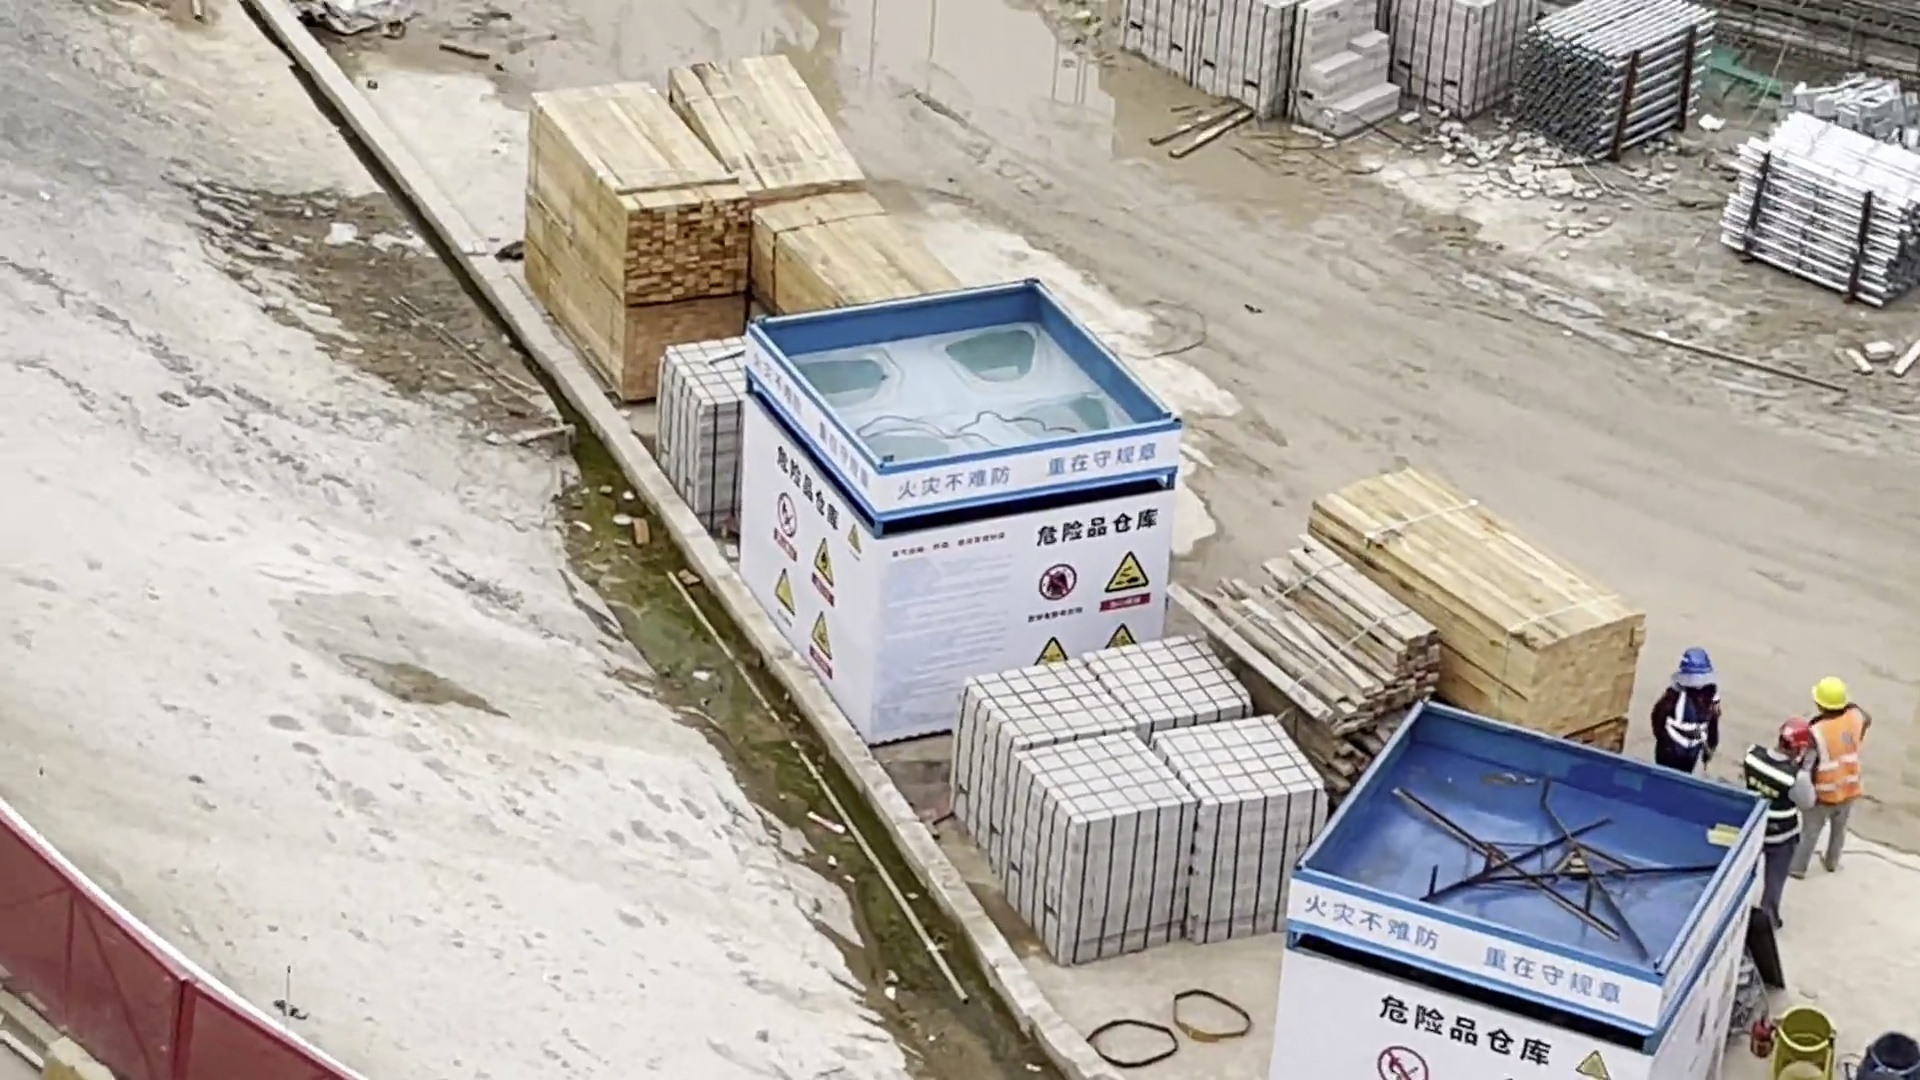brick: (940, 631, 1338, 968), (1114, 4, 1529, 154), (642, 326, 757, 534)
fence: (1, 788, 405, 1080)
helmet: (1670, 642, 1721, 691), (1773, 712, 1819, 761), (1802, 673, 1858, 711)
person: (1789, 661, 1878, 903), (1743, 704, 1821, 943), (1647, 630, 1729, 793)
scaffold: (1517, 3, 1920, 324)
slogan: (850, 414, 1198, 784), (1271, 866, 1775, 1080), (680, 319, 879, 764)
vest: (1792, 711, 1875, 818), (1737, 738, 1810, 843), (1658, 684, 1725, 754)
wood: (1203, 407, 1648, 755), (515, 38, 977, 361)
